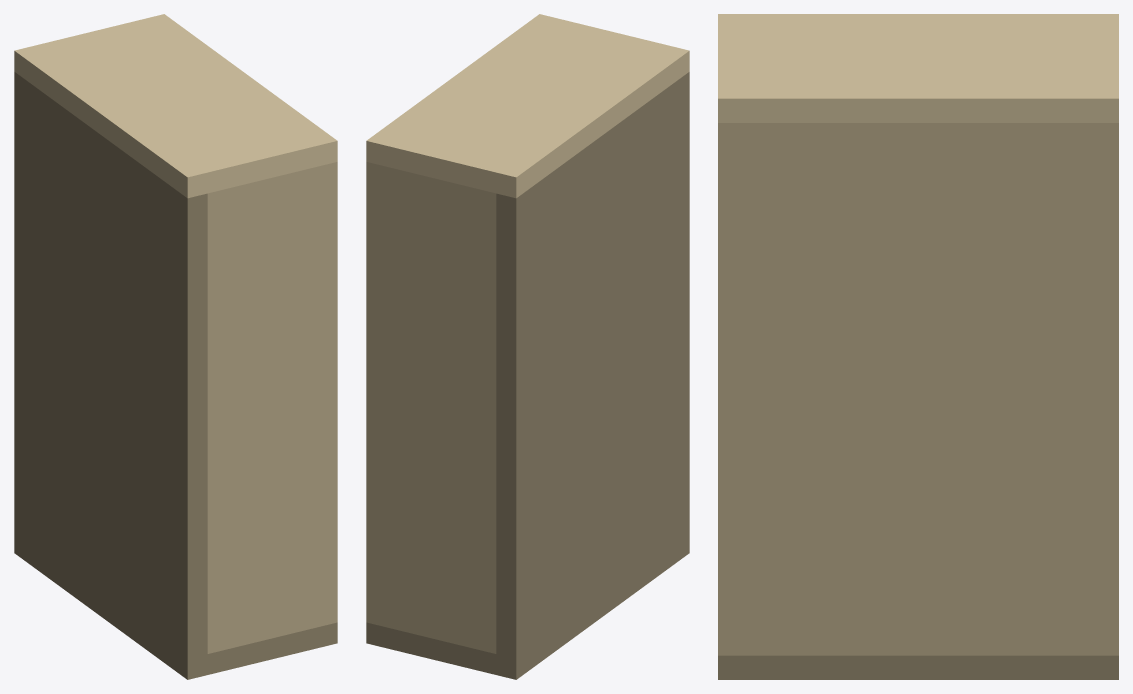
Rendered from estanteria_arce_01.glb.
3 renders of one model, left to right at view 1: azimuth 30°, elevation 25°; view 2: azimuth 150°, elevation 25°; view 3: azimuth 270°, elevation 25°, orthographic. The views are drawn at different scales.
Parts seen in each view (by area): view 1: estanteria_arce; view 2: estanteria_arce; view 3: estanteria_arce.
Boxes of the visible parts, left/top/right/bottom form: estanteria_arce: left=14, top=14, right=337, bottom=679; estanteria_arce: left=366, top=14, right=689, bottom=679; estanteria_arce: left=718, top=14, right=1118, bottom=679.
Size of the model in its own units: 1 by 3.2 by 2.
